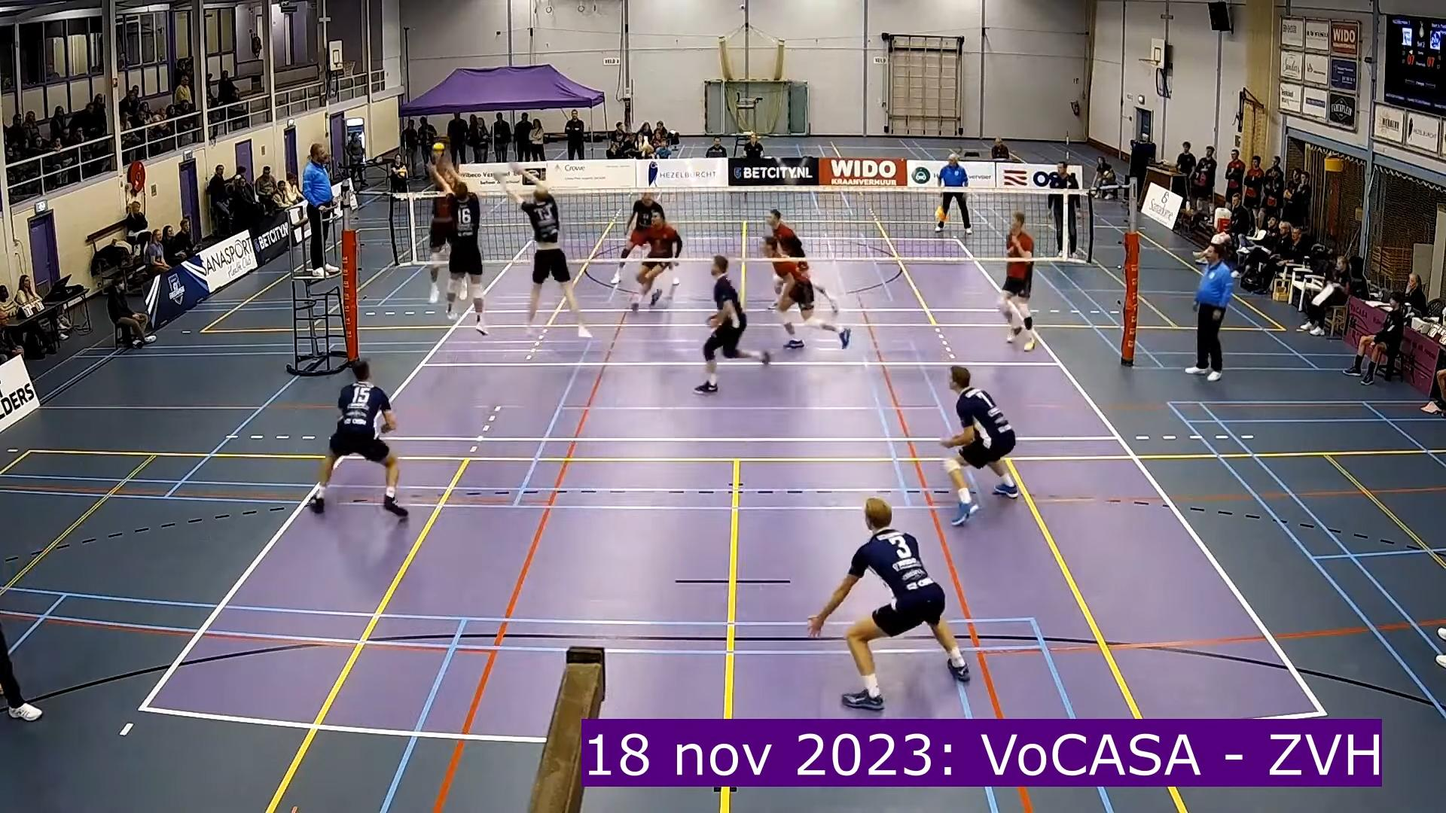attacco: (418, 153, 469, 303)
muro: (499, 158, 583, 324), (421, 161, 488, 331)
